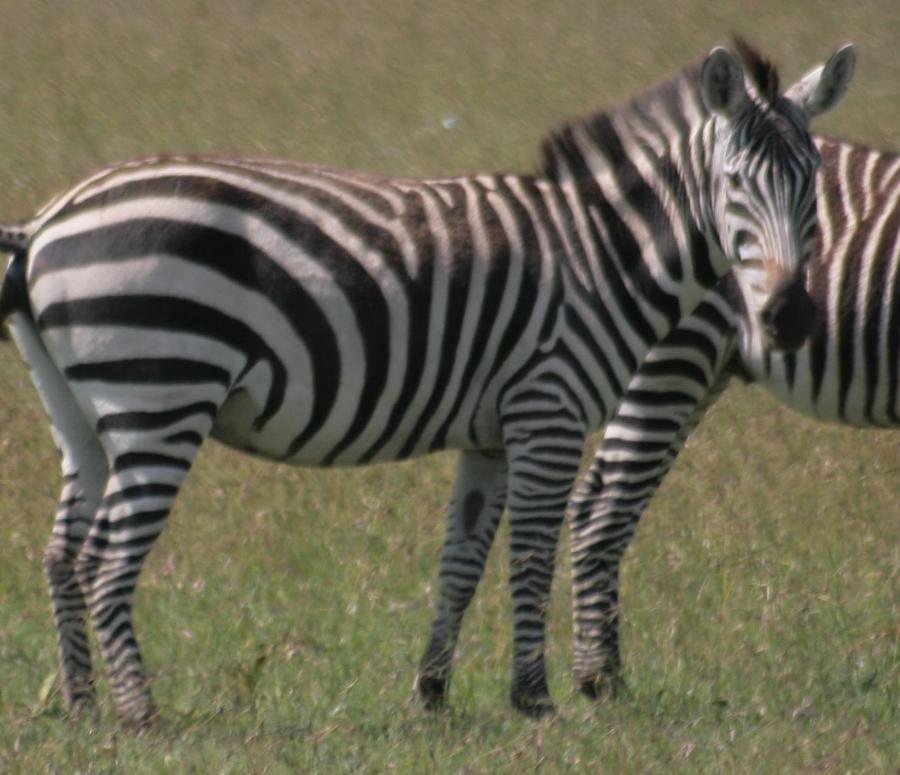zebra_plains: (52, 124, 663, 511)
